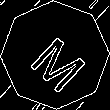M_NE: (21, 21, 89, 89)
